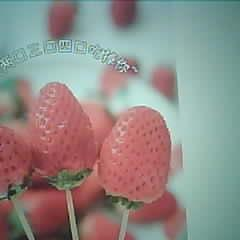straw-ripe: (26, 81, 95, 185), (99, 104, 172, 201)
